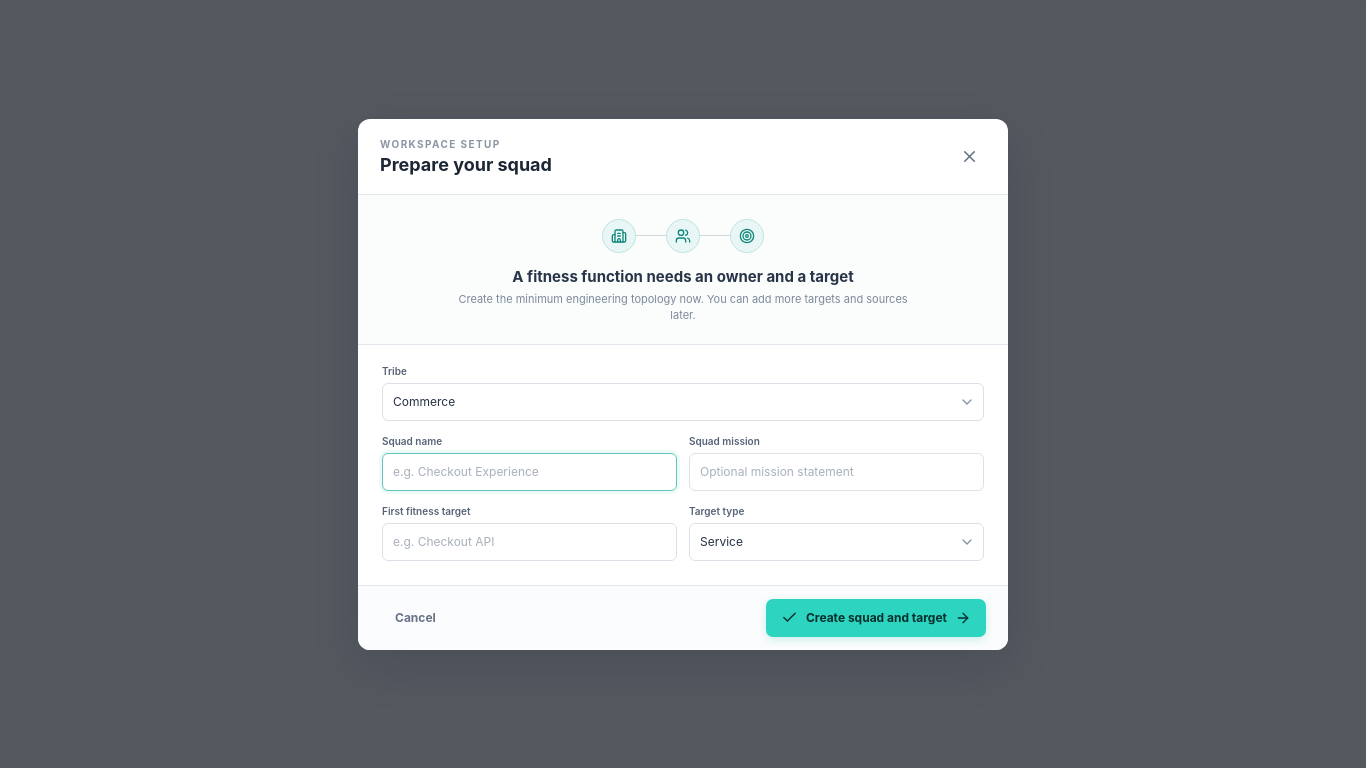
SetupWorkspace › requires a squad name before submitting
Click the button "Create squad and target".
click(876, 618)  # box [766,598,986,636]
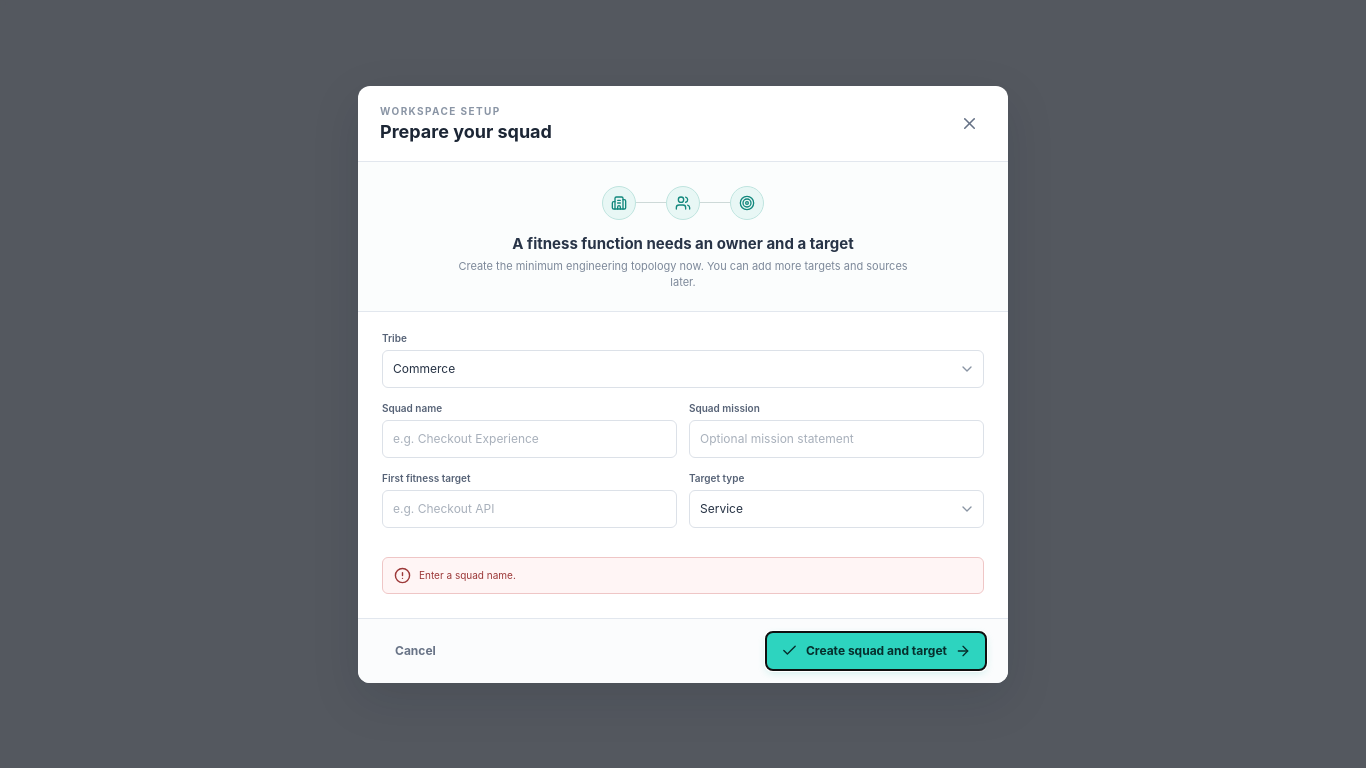
Result: the message reads "Enter a squad name." at [419,569,516,581]
